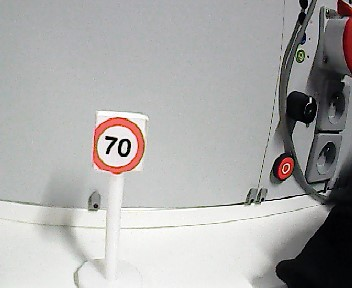70-bord: (93, 118, 146, 174)
